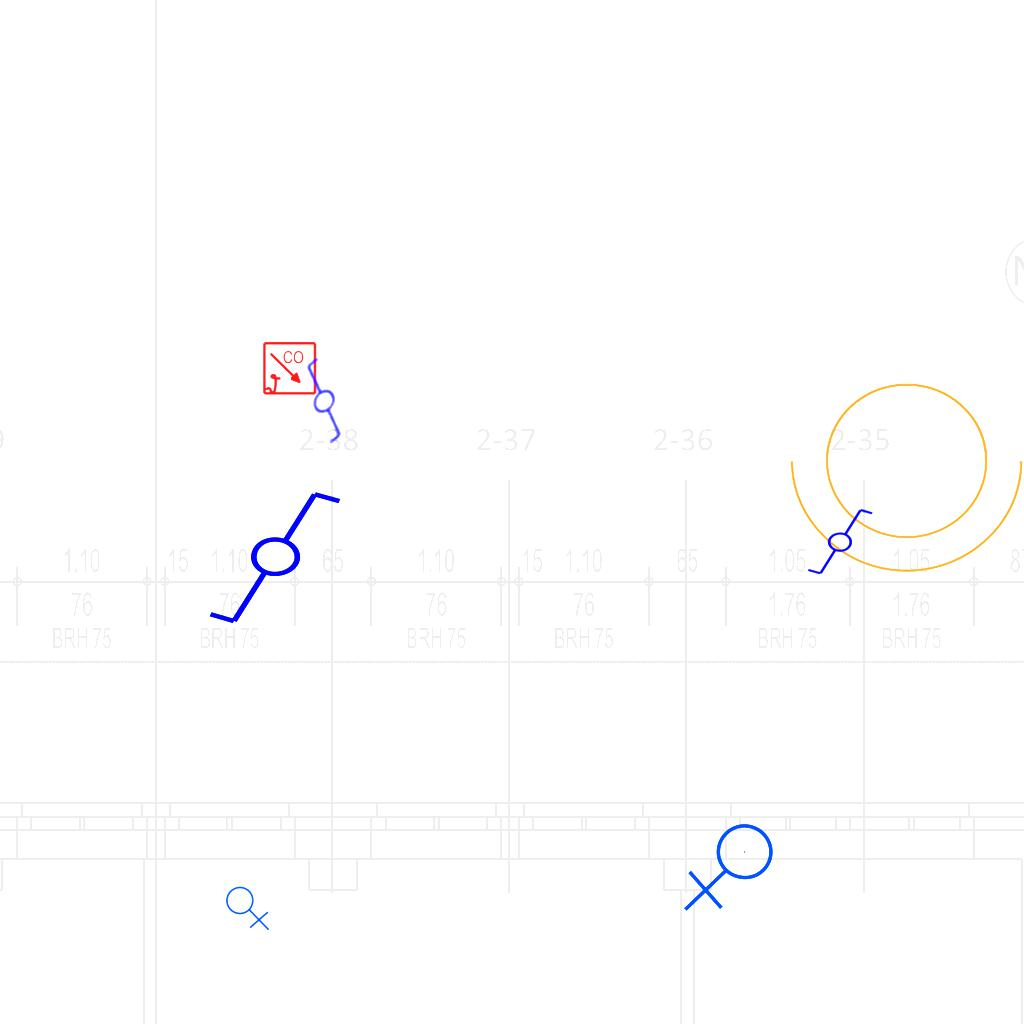Elektroanschluss_allgemein_230V_Geraeteanschlussdose_230V: (683, 822, 782, 916), (225, 882, 272, 931)
ROA_Rauchmelder_optisch_mit_Signalgeber_(Sockelsirene): (262, 341, 318, 397)
Scheinwerfer_fuer_Alarmbeleuchtung: (781, 358, 1024, 583)
Wechselschalter: (205, 487, 362, 631), (269, 351, 373, 457), (797, 505, 875, 577)
